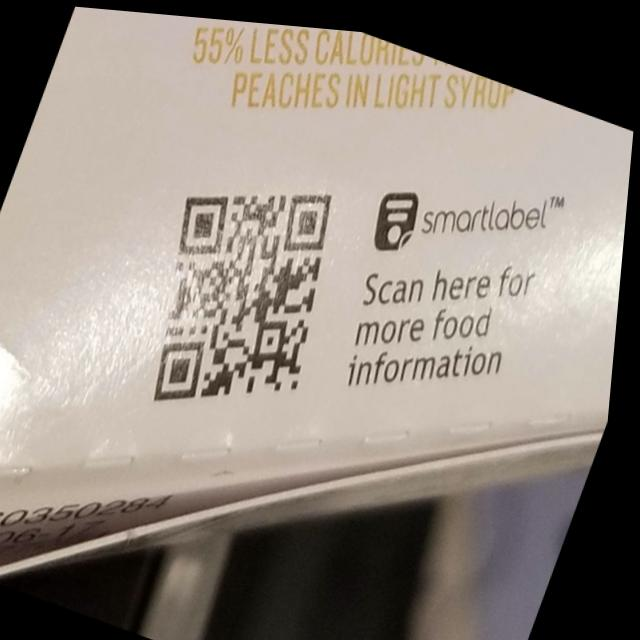QR_CODE: (103, 113, 388, 454)
